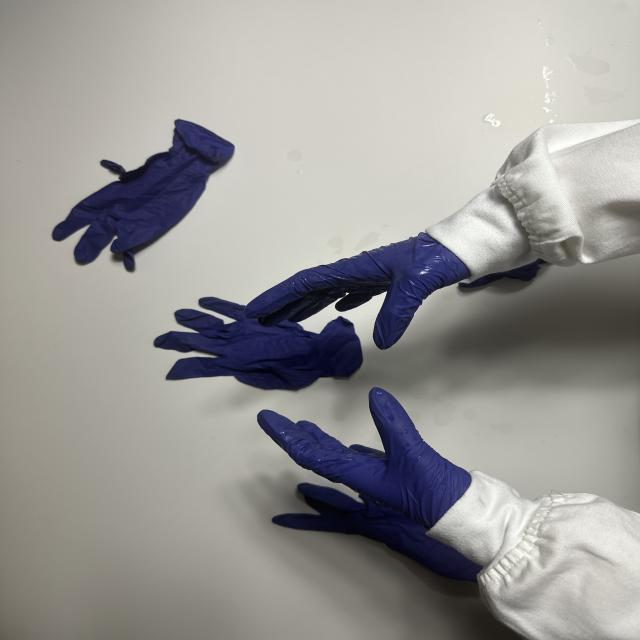gloves_contaminated: (258, 388, 472, 528), (246, 233, 469, 349)
